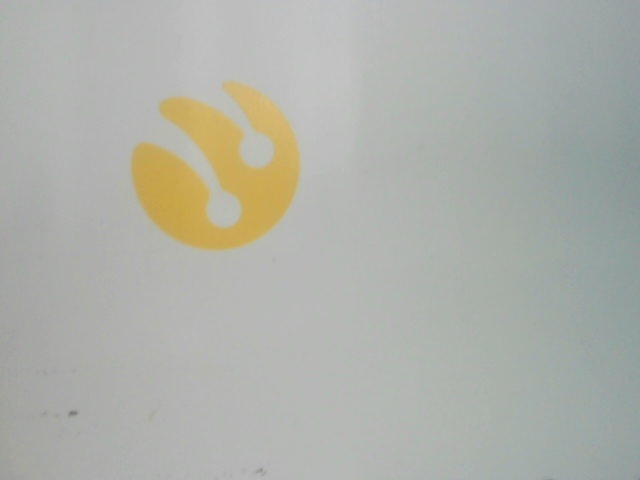AV_H3600Yellow: (120, 78, 315, 256)
